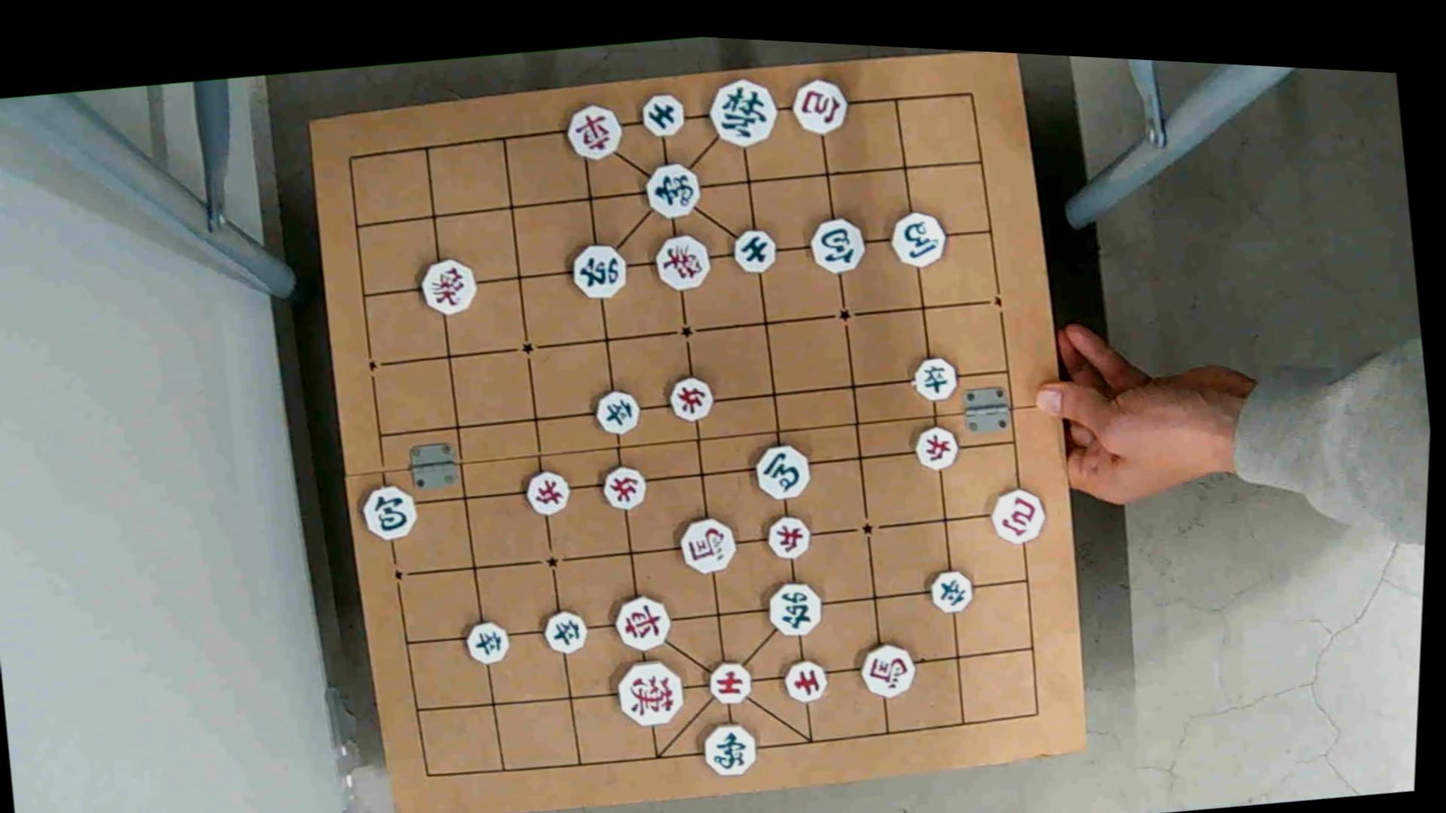cha_green: (565, 240, 631, 302), (761, 579, 826, 638)
cha_red: (608, 592, 673, 652), (563, 101, 625, 161)
jol_green: (590, 386, 644, 435), (907, 353, 961, 402), (537, 607, 590, 654), (459, 617, 510, 665), (923, 567, 975, 614)
jol_red: (661, 373, 717, 422), (596, 462, 650, 510), (520, 468, 573, 516), (761, 511, 814, 559), (906, 424, 961, 470)
ma_green: (749, 440, 814, 501), (884, 208, 947, 269)
ma_red: (673, 515, 740, 574), (856, 640, 920, 699)
po_green: (355, 483, 421, 543), (804, 216, 868, 276)
po_red: (786, 75, 852, 134), (986, 484, 1050, 544)
sa_green: (730, 224, 780, 275), (636, 89, 688, 138)
sa_red: (702, 659, 755, 706), (780, 659, 831, 705)
sang_green: (644, 161, 701, 218), (702, 723, 757, 776)
sang_red: (414, 257, 478, 317), (649, 234, 712, 294)
wang_green: (702, 73, 780, 148)
wang_red: (614, 657, 684, 726)
